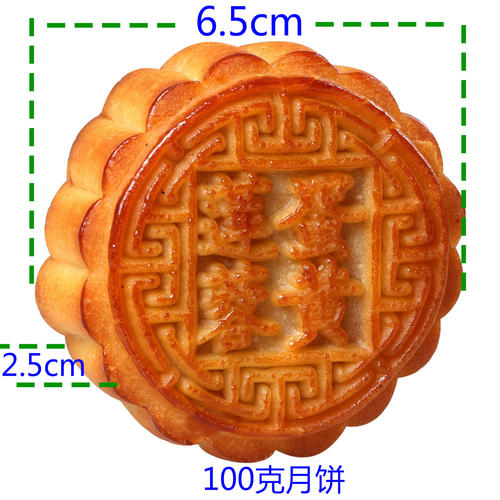MoonCake: (33, 39, 465, 463)
